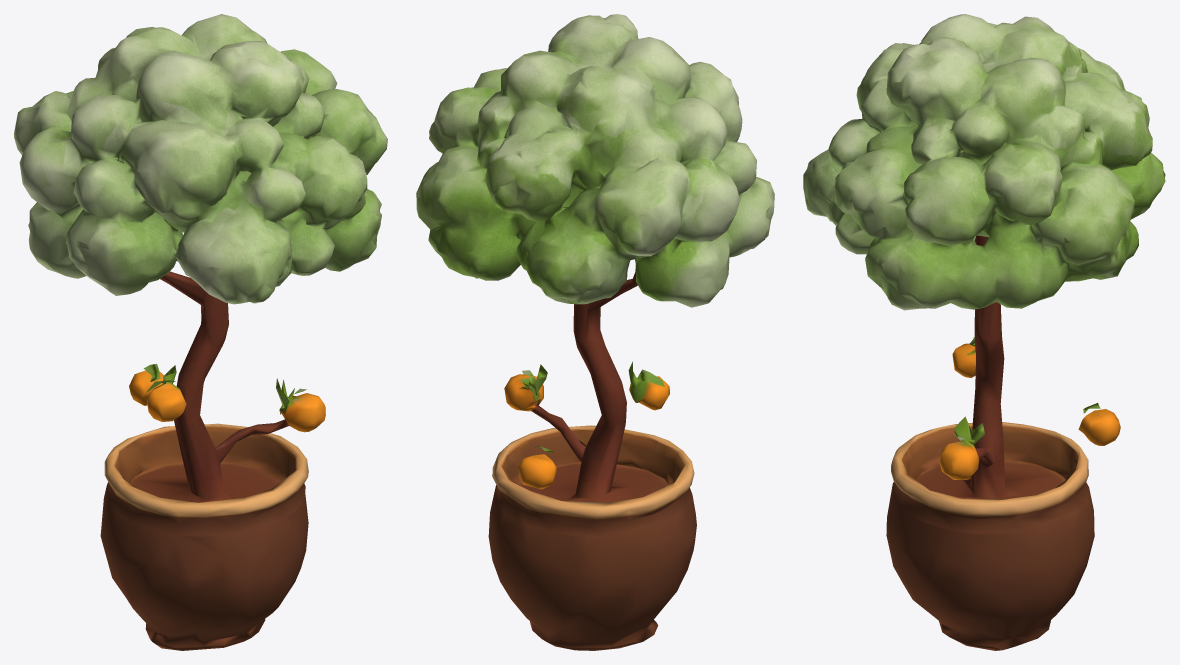
The model's file is garden_tree.glb.
3 renders of one model, left to right at view 1: azimuth 30°, elevation 25°; view 2: azimuth 150°, elevation 25°; view 3: azimuth 270°, elevation 25°, orthographic.
Parts seen in each view (by area): view 1: Mesh_0; view 2: Mesh_0; view 3: Mesh_0.
Part boxes in pixels (x1,y1,x2,y2): Mesh_0: (14, 14, 387, 650); Mesh_0: (416, 14, 774, 650); Mesh_0: (803, 14, 1165, 650).
Size of the model in its own units: 1.04 by 1.89 by 1.05.
1 material, 1 textured.
